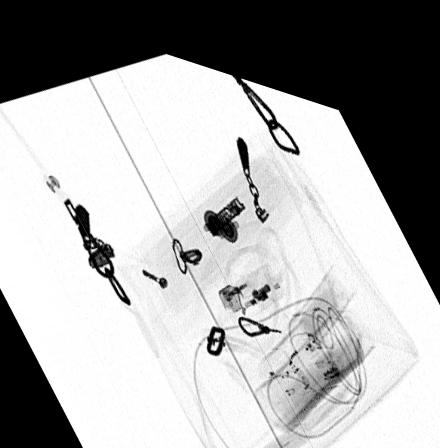Lighter: (217, 245, 287, 305)
